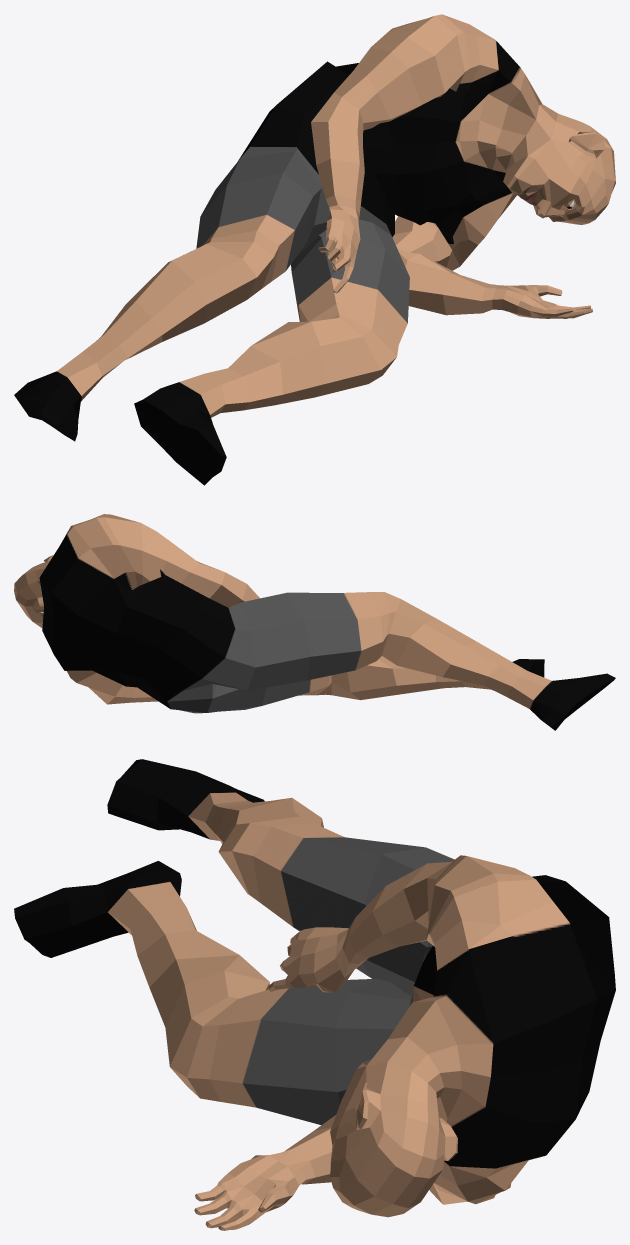
Rendered from PlayerDead(70).obj.
3 renders of one model, top to bottom at view 1: azimuth 30°, elevation 25°; view 2: azimuth 150°, elevation 25°; view 3: azimuth 270°, elevation 25°, orthographic. The views are drawn at different scales.
Parts seen in each view (by area): view 1: Plane002; view 2: Plane002; view 3: Plane002.
Boxes of the visible parts, x1,y1,x2,y2 form: Plane002: (14, 14, 615, 485); Plane002: (14, 514, 615, 730); Plane002: (14, 759, 615, 1230).
Bounding box in the file's own units: 1590 × 572 × 904.
